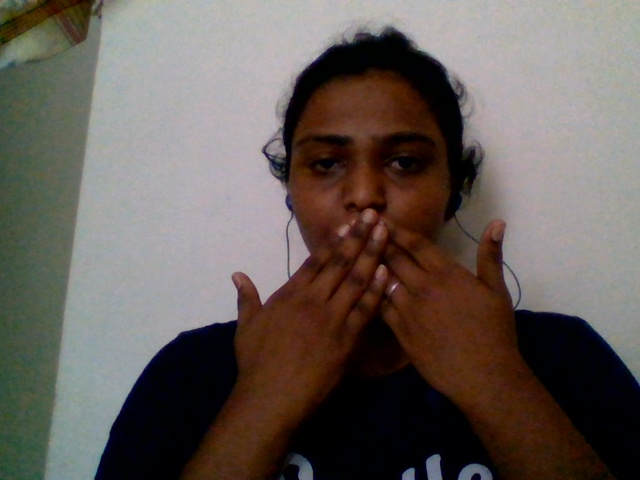Thanks: (186, 195, 591, 389)
